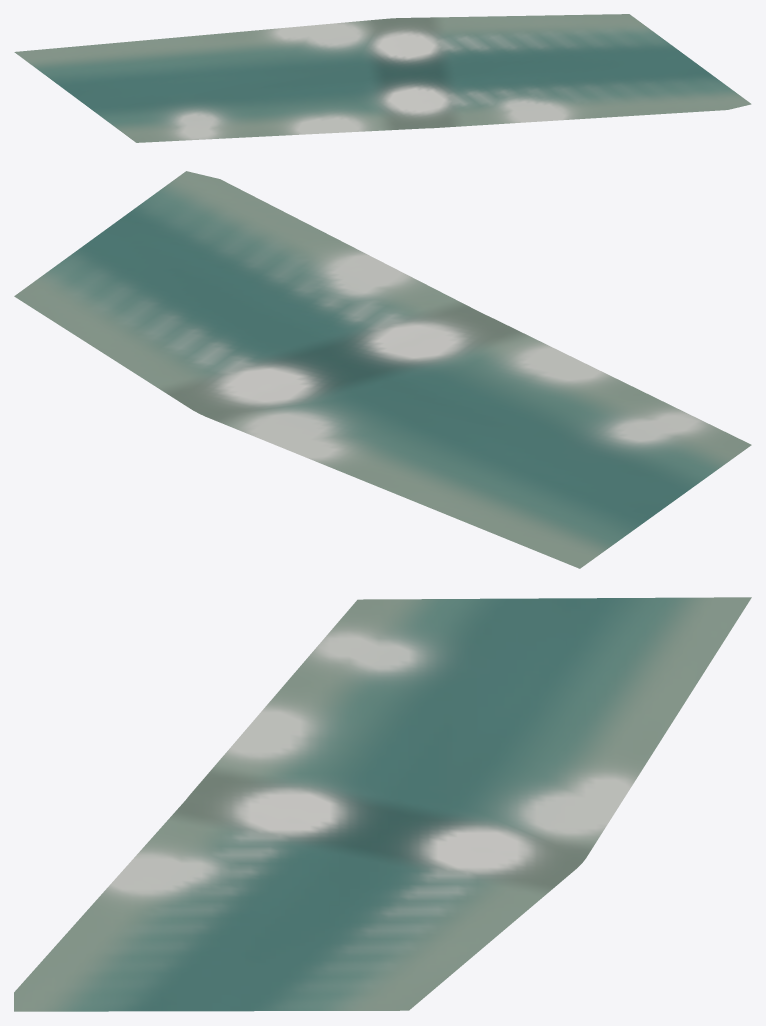
The model's file is SM_BM_BC_Water_Ponte.glb.
3 renders of one model, top to bottom at view 1: azimuth 30°, elevation 25°; view 2: azimuth 150°, elevation 25°; view 3: azimuth 270°, elevation 25°, orthographic. The views are drawn at different scales.
Parts seen in each view (by area): view 1: SM_BM_BC_Water_Ponte; view 2: SM_BM_BC_Water_Ponte; view 3: SM_BM_BC_Water_Ponte.
Boxes of the visible parts, x1,y1,x2,y2 form: SM_BM_BC_Water_Ponte: (14,14,751,142); SM_BM_BC_Water_Ponte: (14,171,751,568); SM_BM_BC_Water_Ponte: (14,597,751,1011).
Size of the model in its own units: 96 by 1.59 by 74.82.
